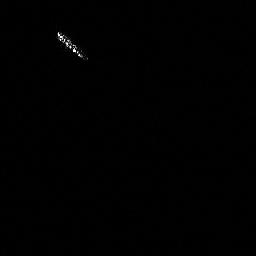ship: (54, 26, 85, 62)
